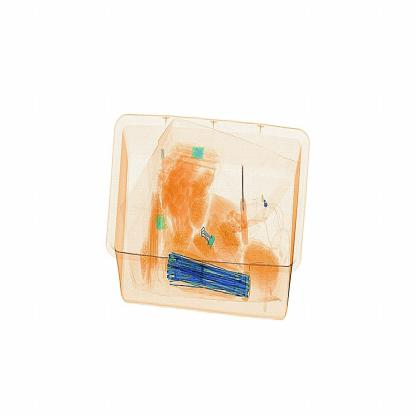wrench: (235, 149, 261, 249)
